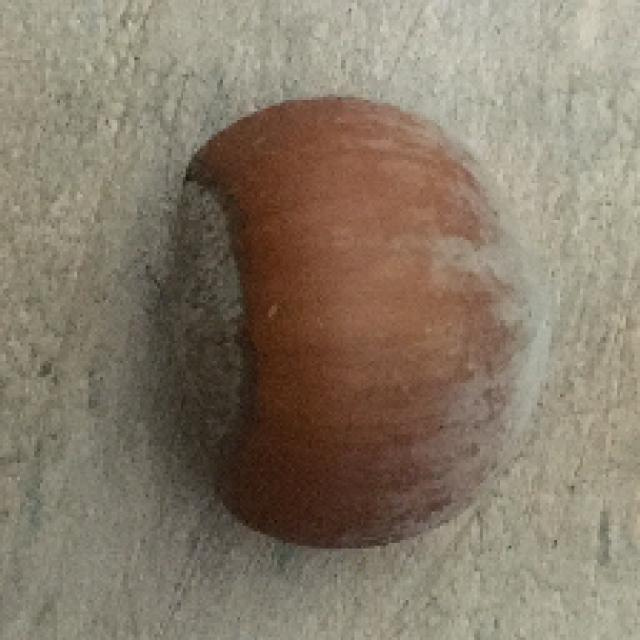qualityHazelnut: (154, 90, 541, 557)
